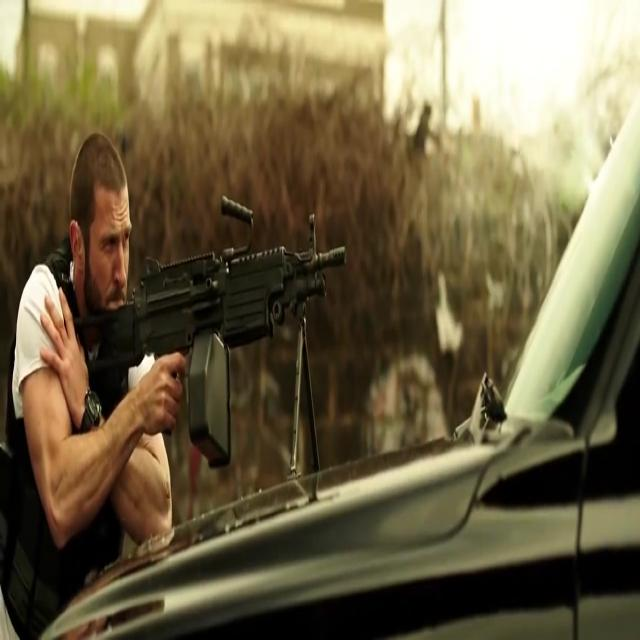Weapon: (14, 228, 347, 433)
